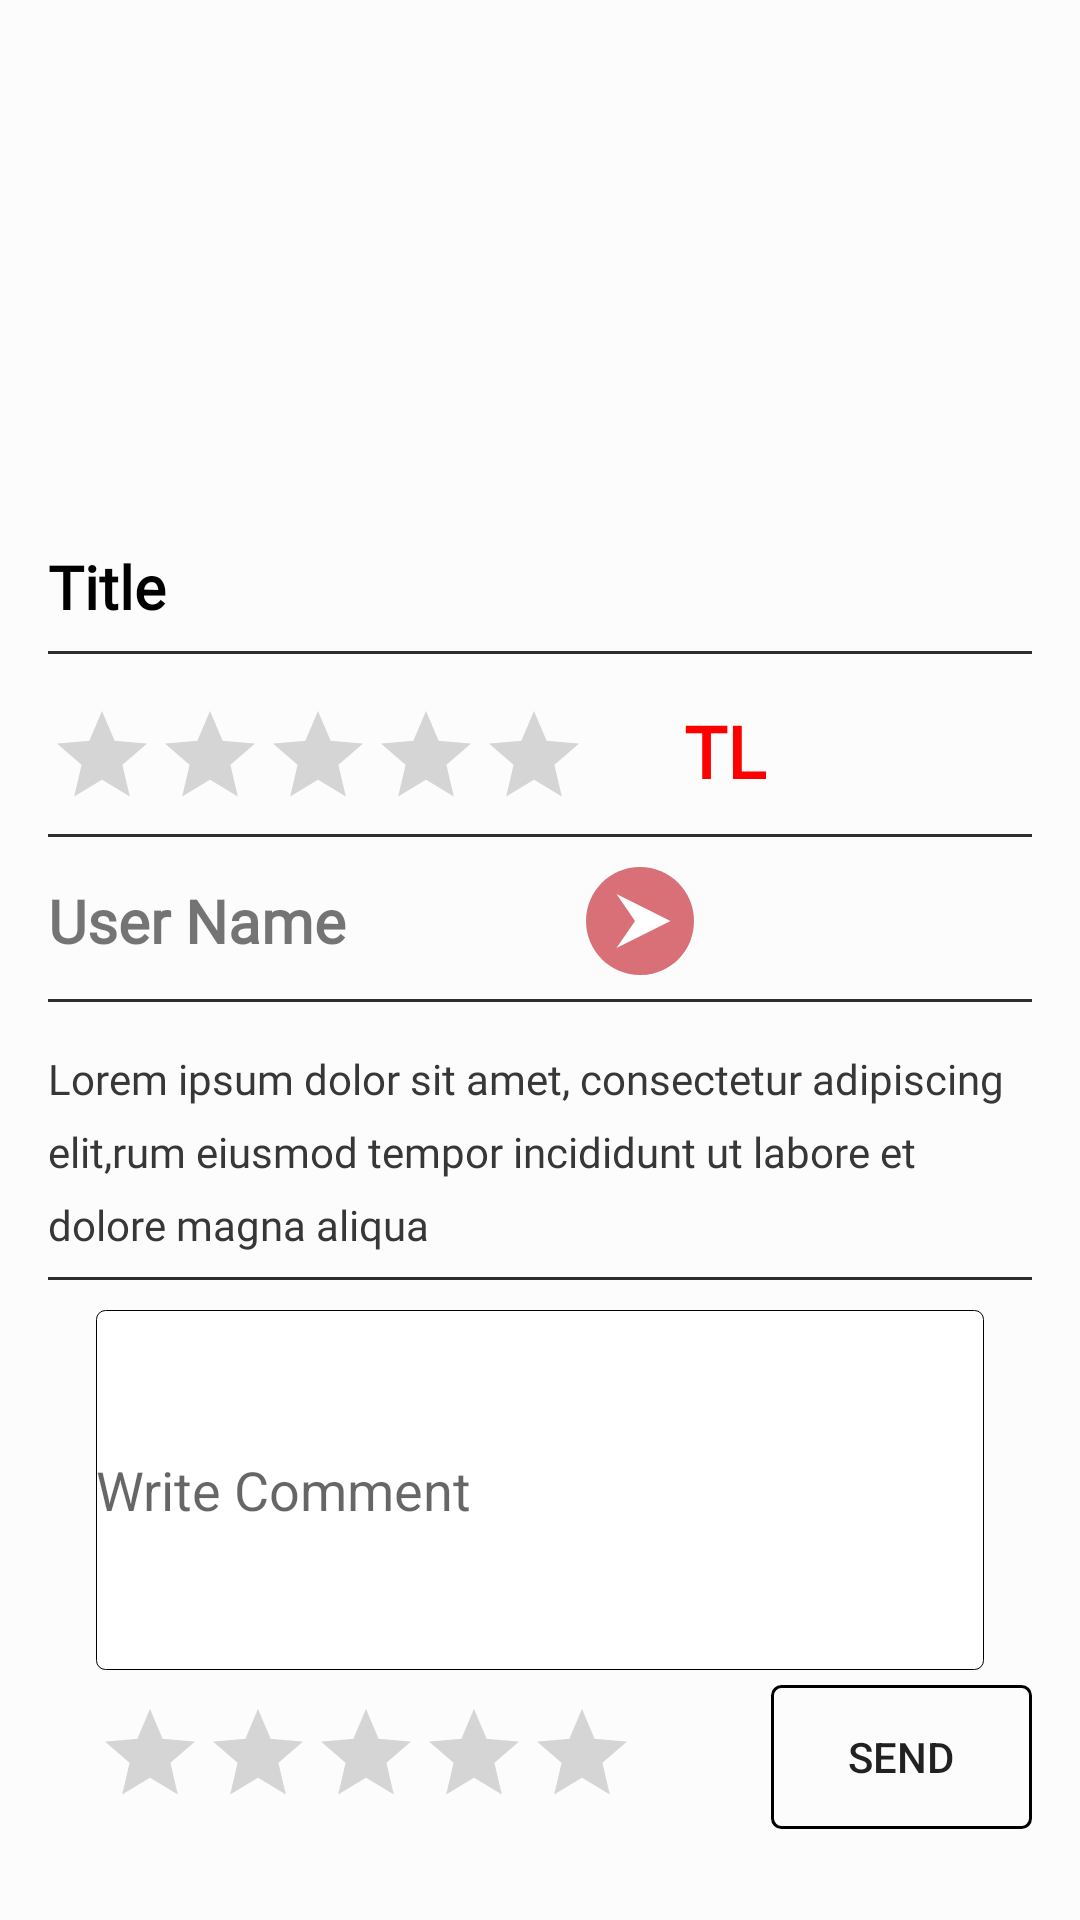

Point at icon controls on the screen. Image size 1080w x 1920h, points as [x,y].
go profile: [640,921]
